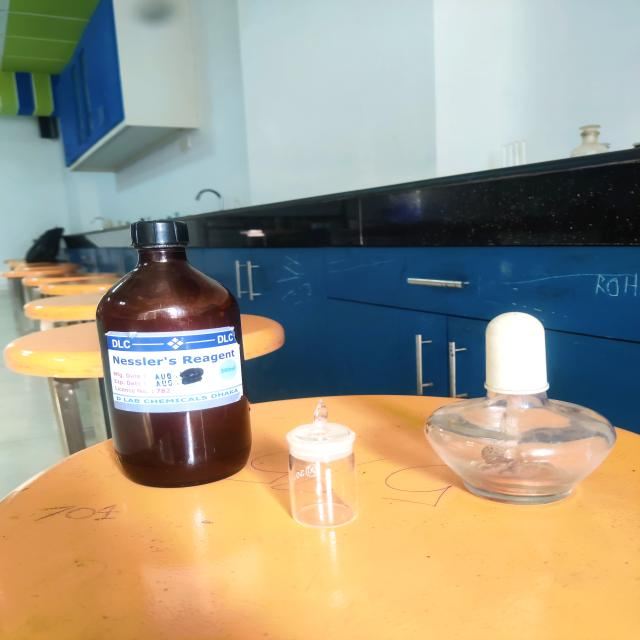Nessler_Reagent_Bottle: (75, 198, 262, 500)
Spirit_Lamp: (409, 299, 638, 523)
Weighing_Bottle: (268, 390, 378, 541)
